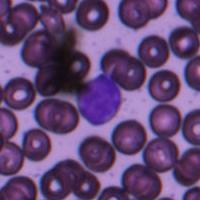L: (79, 72, 122, 125)
